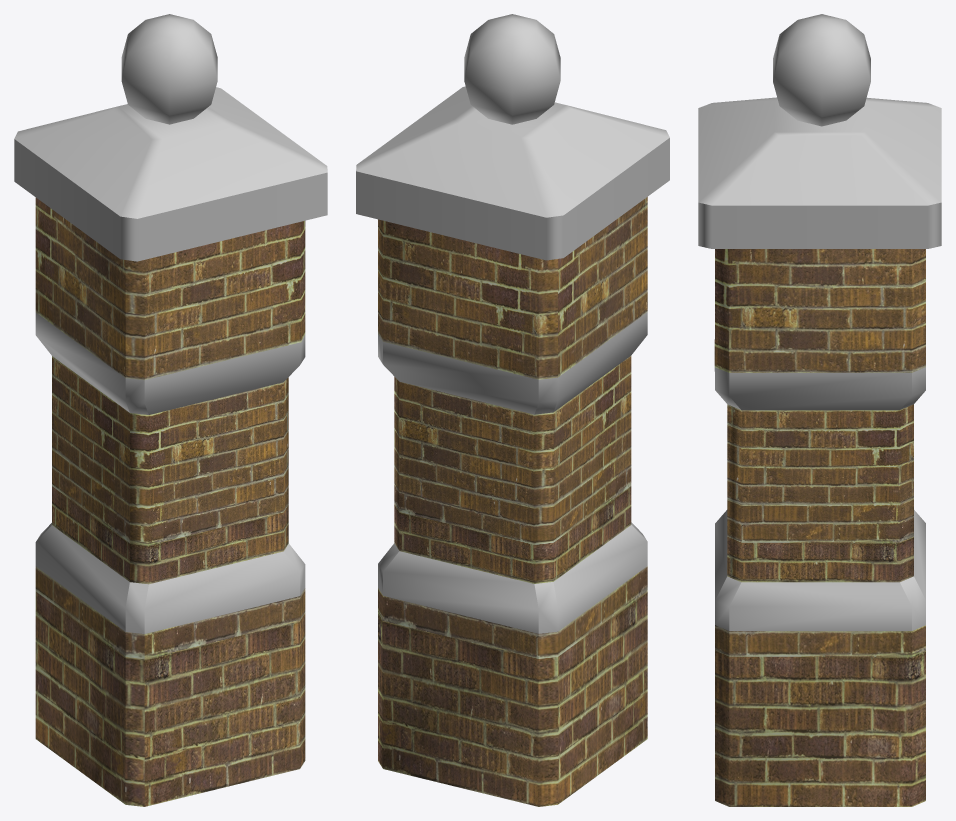
The model's file is VP_park_fence_post.fbx.
3 views of the same model, side by side, from view 1: azimuth 30°, elevation 25°; view 2: azimuth 150°, elevation 25°; view 3: azimuth 270°, elevation 25° (orthographic).
Parts seen in each view (by area): view 1: polySurface282; view 2: polySurface282; view 3: polySurface282.
Boxes of the visible parts, x1=… form: polySurface282: x1=14, y1=14, x2=327, y2=806; polySurface282: x1=356, y1=14, x2=669, y2=806; polySurface282: x1=698, y1=14, x2=941, y2=806.
Bounding box in the file's own units: 131 × 441 × 131.
